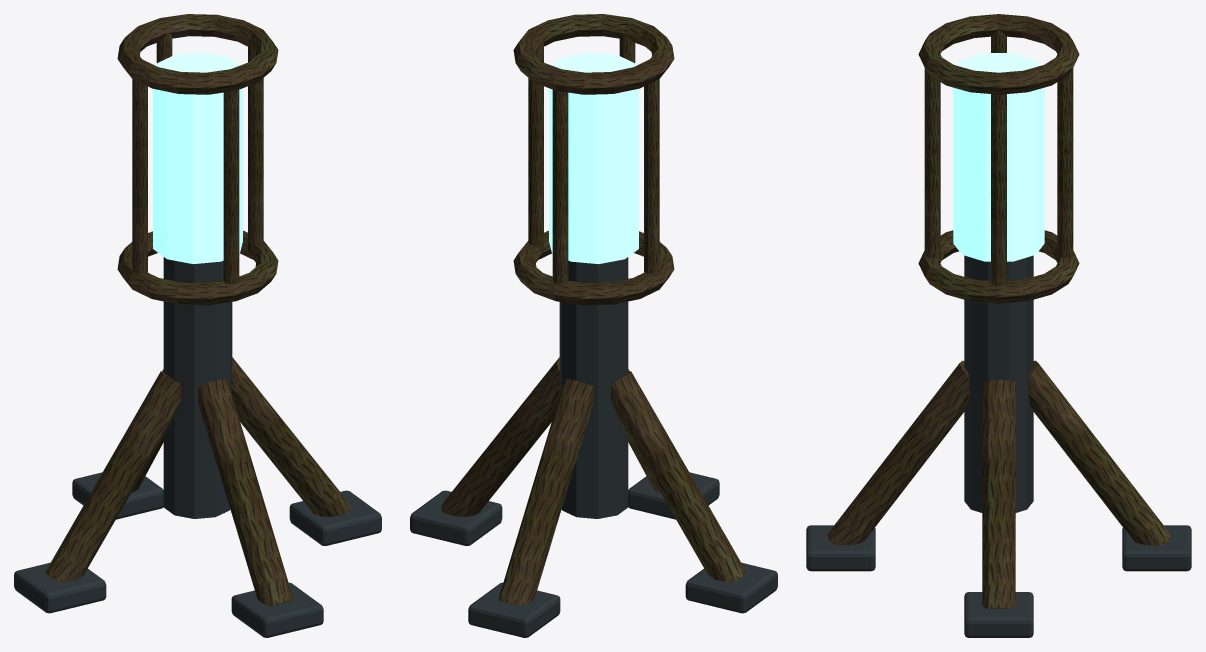
Rendered from GreenLamp.fbx.
3 renders of one model, left to right at view 1: azimuth 30°, elevation 25°; view 2: azimuth 150°, elevation 25°; view 3: azimuth 270°, elevation 25°, orthographic.
Visible parts, largest first — view 1: GreenLamp.001; view 2: GreenLamp.001; view 3: GreenLamp.001.
Part boxes in pixels (left/top/right/bottom): GreenLamp.001: left=14, top=14, right=381, bottom=637; GreenLamp.001: left=410, top=14, right=777, bottom=637; GreenLamp.001: left=806, top=14, right=1191, bottom=637.
Size of the model in its own units: 1.22 by 1.22 by 1.79.
